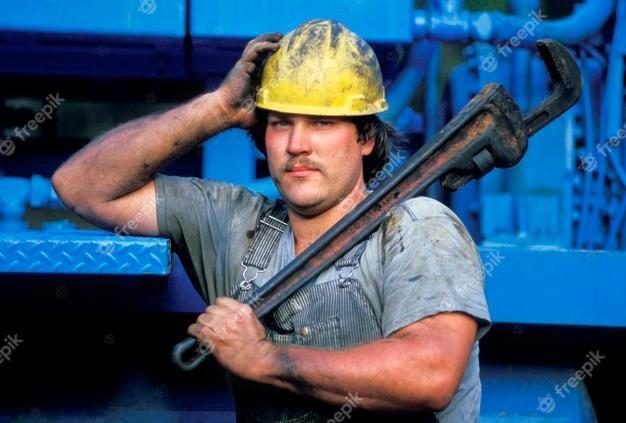hardhat: (258, 19, 391, 118)
worker: (50, 17, 492, 423)
